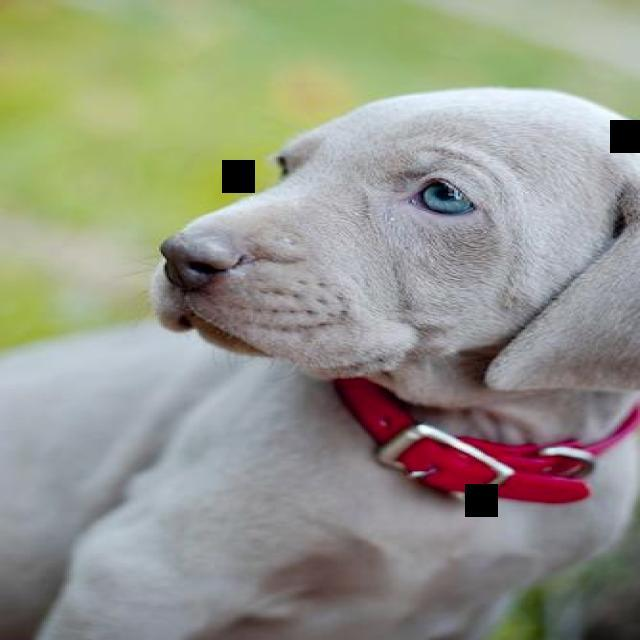puppy-dog: (1, 82, 640, 640)
